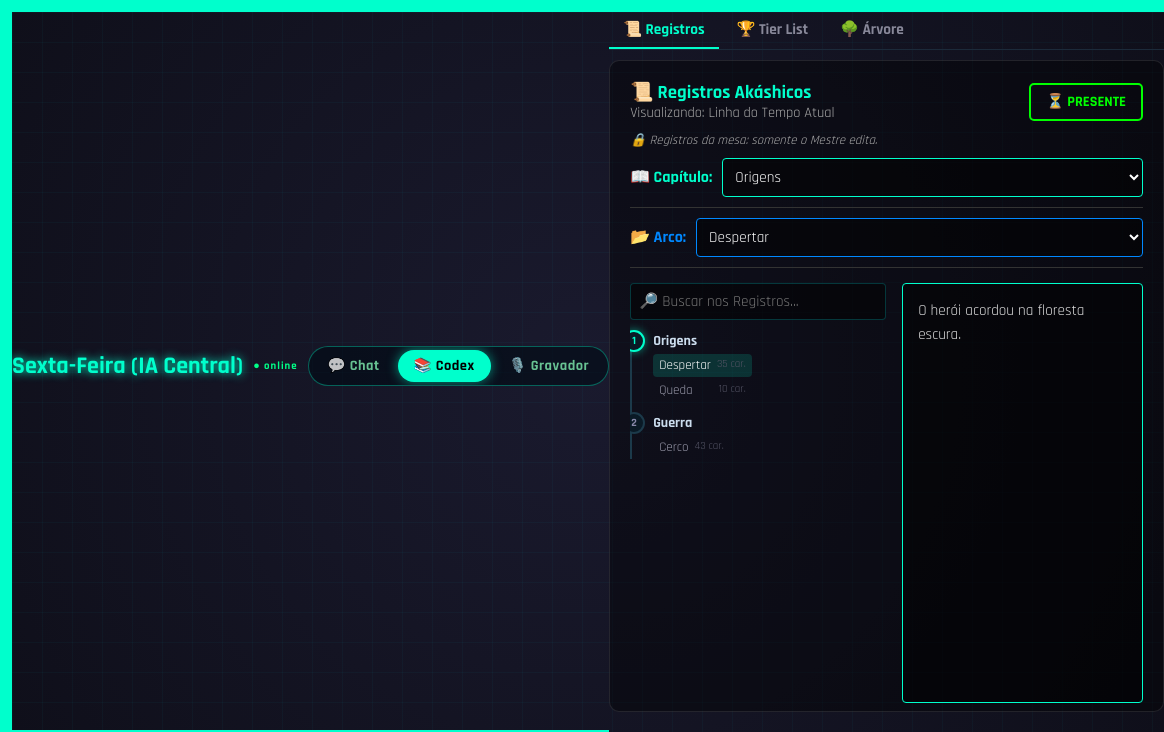
Test case: NavegadorRegistros - busca › jogador com Registros da mesa nao encontra o Futuro
Type "rainha" into the search field labelled "Buscar nos Registros".
click(758, 302); type("rainha")  # box [630, 283, 886, 320]
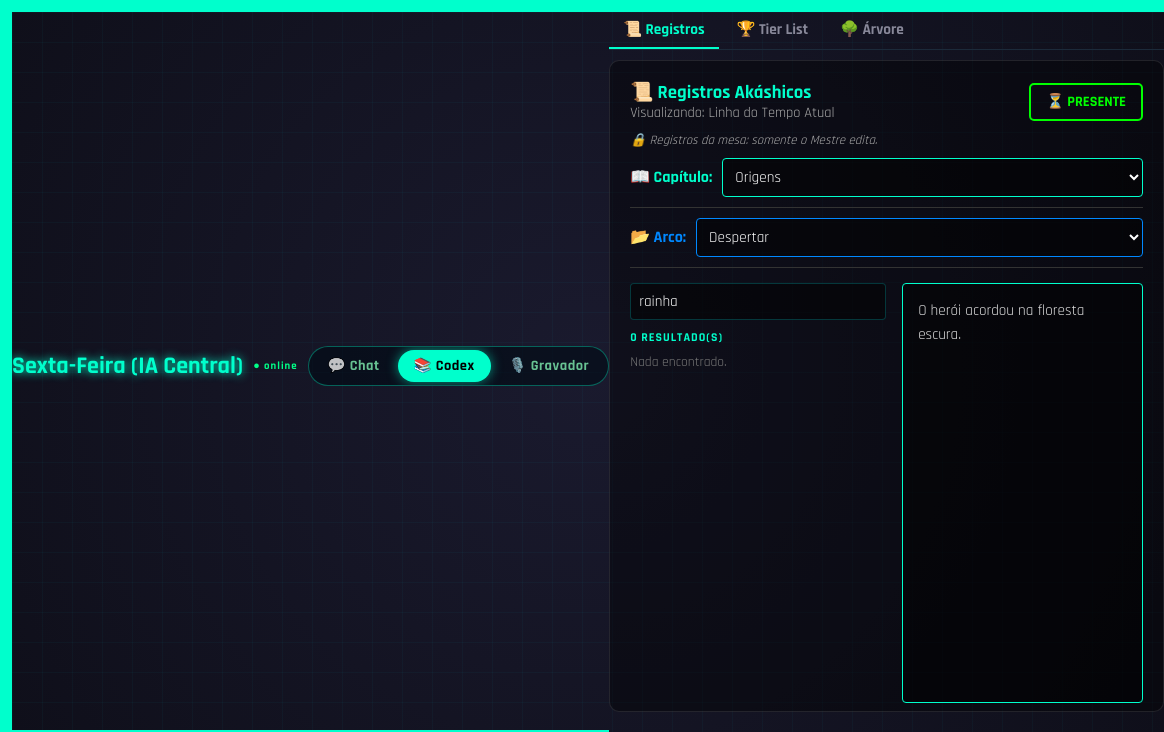
Expected: the text "0 resultado(s)" is shown, [630, 330, 723, 345]
Expected: the text "Nada encontrado." is shown, [630, 353, 727, 371]
